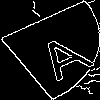A: (25, 25, 98, 82)
